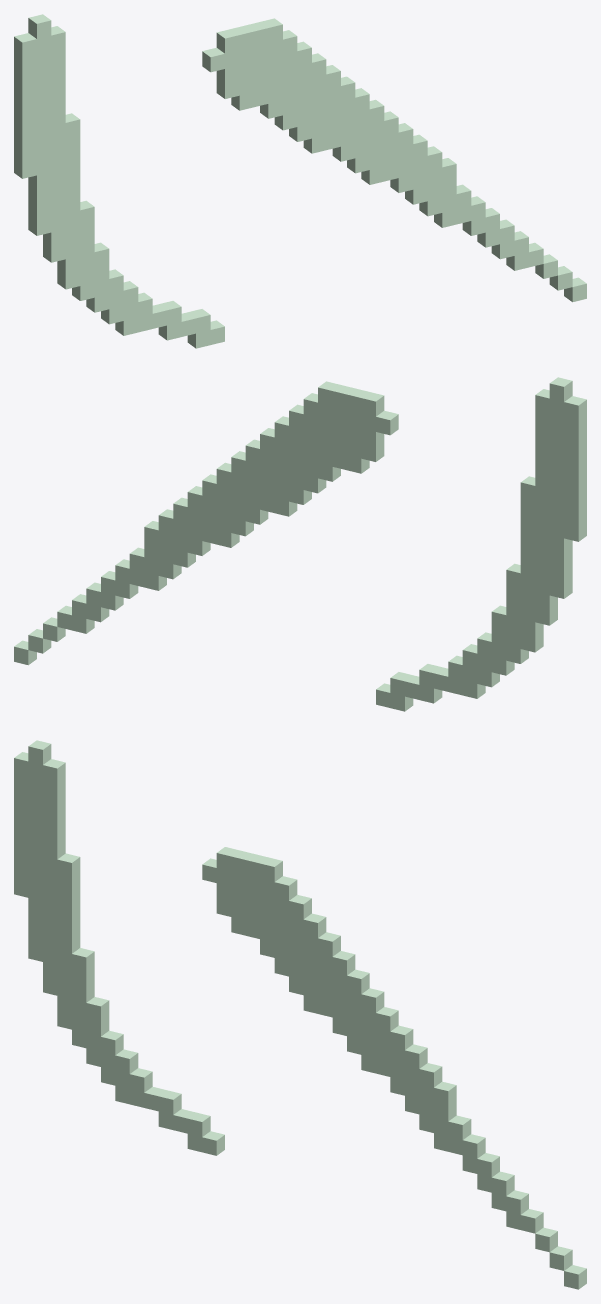
Rendered from Fight_742_2_05_fx.obj.
3 renders of one model, top to bottom at view 1: azimuth 30°, elevation 25°; view 2: azimuth 150°, elevation 25°; view 3: azimuth 330°, elevation 25°, orthographic.
Bounding box in the file's own units: 3.9 × 2.7 × 0.1.
1 material, 1 textured.
